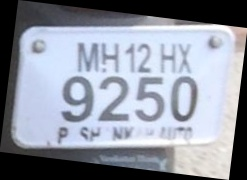character: (60, 75, 93, 122), (96, 76, 129, 122), (134, 76, 164, 121), (169, 76, 197, 122), (75, 41, 99, 72), (100, 41, 119, 73), (158, 41, 176, 73), (136, 43, 151, 73), (177, 42, 191, 73), (124, 42, 135, 73), (56, 126, 68, 144)
